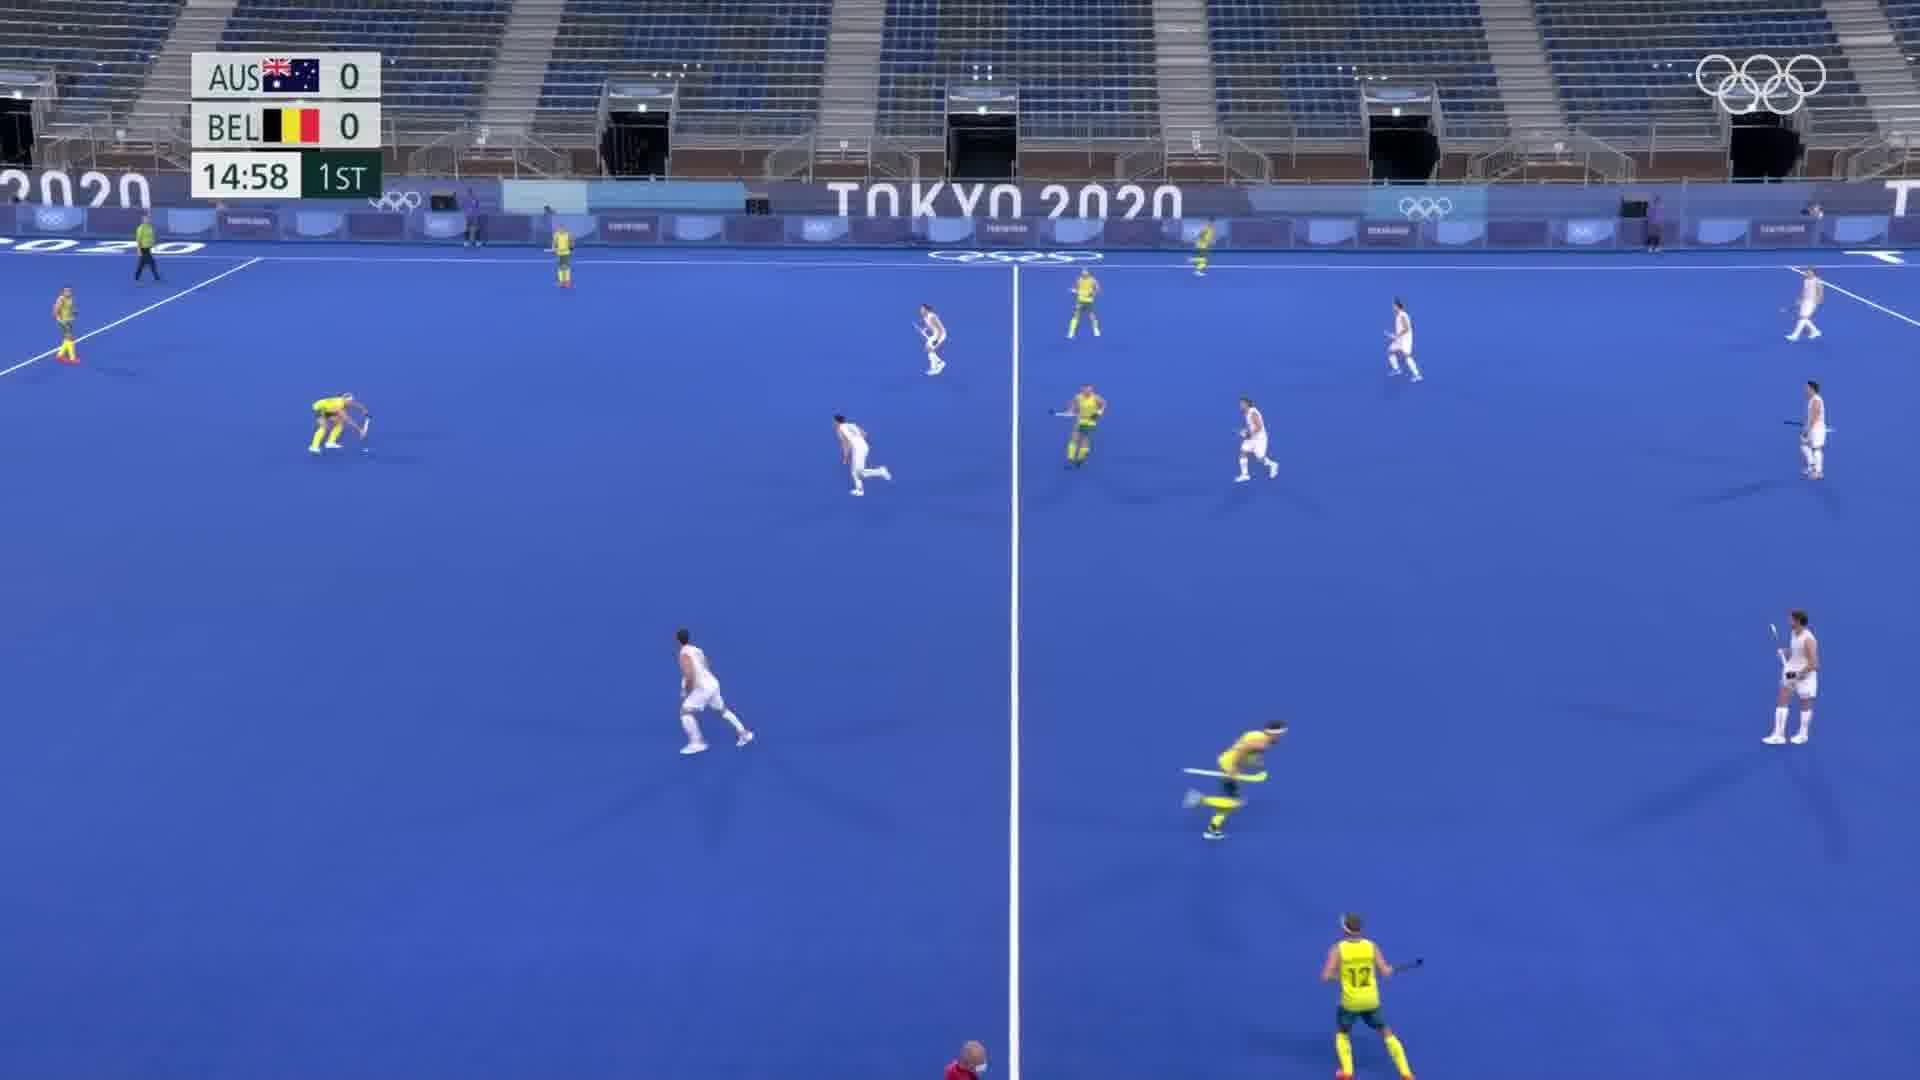ball: (353, 444, 380, 458)
